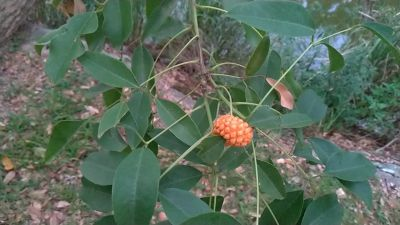eggs: (212, 112, 253, 149)
